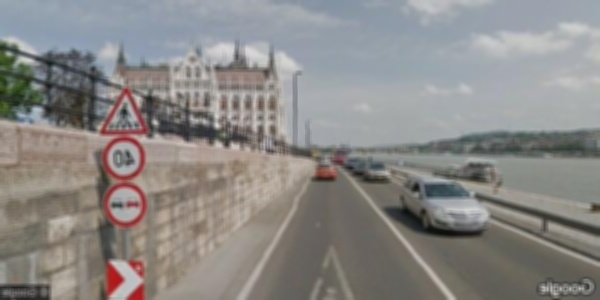b_speed_limit: (103, 136, 144, 180)
f_others: (103, 182, 147, 228)
